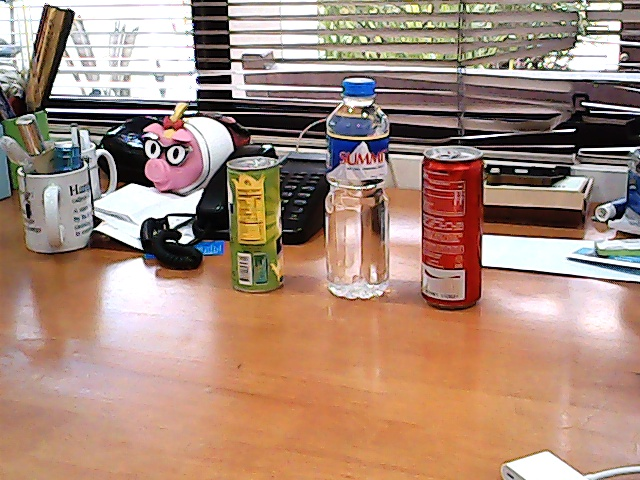Cola: (416, 143, 490, 312)
Pine Juice: (228, 154, 284, 295)
Summit Water: (325, 80, 392, 296)
